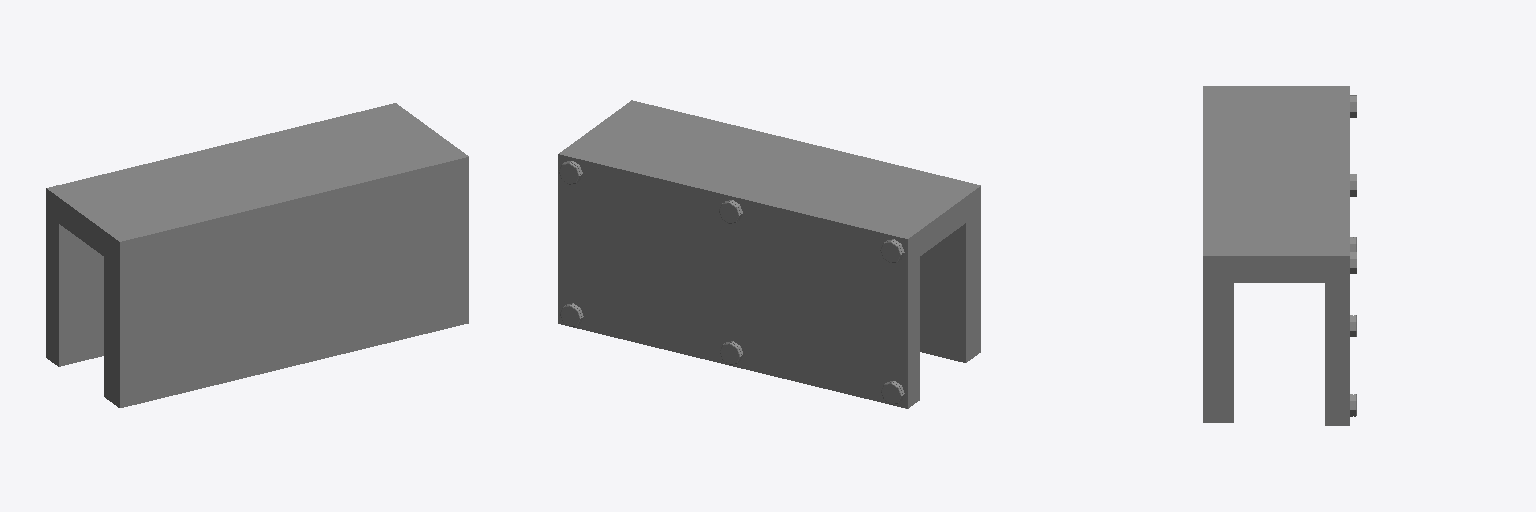
File: Mueble_tv.obj
The picture shows the model from 3 angles: view 1: azimuth 30°, elevation 25°; view 2: azimuth 150°, elevation 25°; view 3: azimuth 270°, elevation 25°; orthographic projection.
Parts seen in each view (by area): view 1: 10256_TV_Cabinet_v1_max2011; view 2: 10256_TV_Cabinet_v1_max2011; view 3: 10256_TV_Cabinet_v1_max2011.
Part boxes in pixels (bbox=[...]): 10256_TV_Cabinet_v1_max2011: bbox=[46, 103, 468, 407]; 10256_TV_Cabinet_v1_max2011: bbox=[558, 100, 980, 408]; 10256_TV_Cabinet_v1_max2011: bbox=[1203, 86, 1356, 425].
Bounding box in the file's own units: 153 × 71 × 58.55.